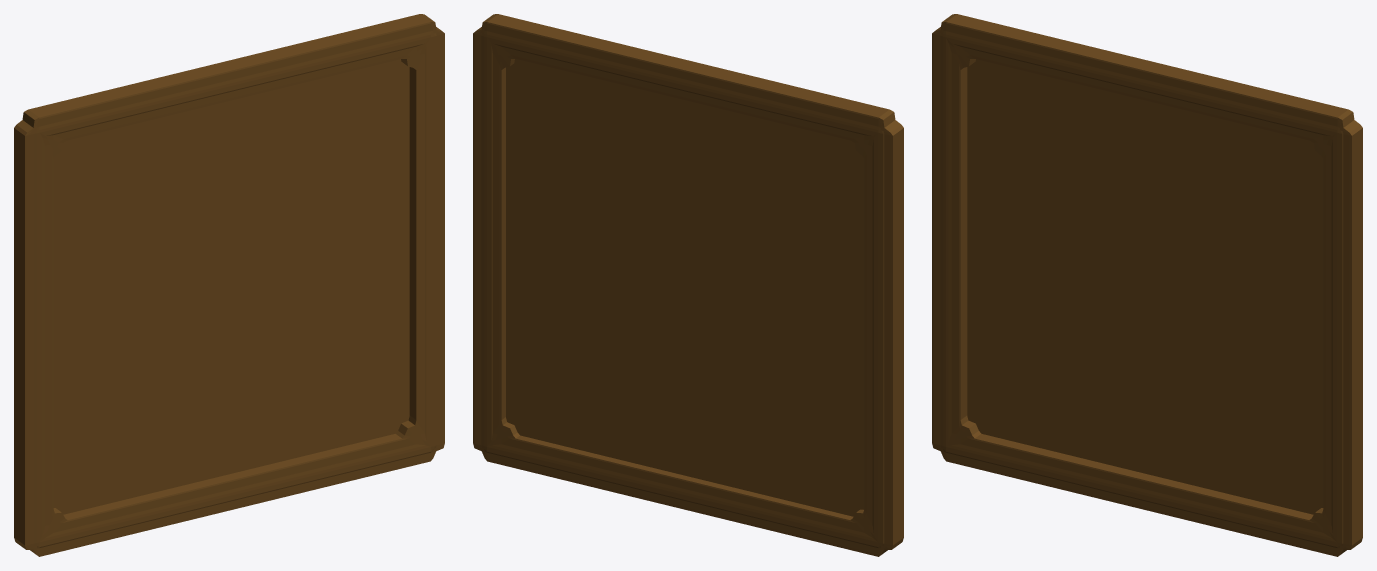
File: painting.fbx
The picture shows the model from 3 angles, left to right: view 1: azimuth 30°, elevation 25°; view 2: azimuth 150°, elevation 25°; view 3: azimuth 330°, elevation 25°; orthographic projection.
Parts seen in each view (by area): view 1: Cube.049; view 2: Cube.049; view 3: Cube.049.
Boxes of the visible parts, x1,y1,x2,y2 form: Cube.049: (14,14,444,556); Cube.049: (473,14,903,556); Cube.049: (932,14,1362,556).
Size of the model in its own units: 83.04 by 83.04 by 4.04.
